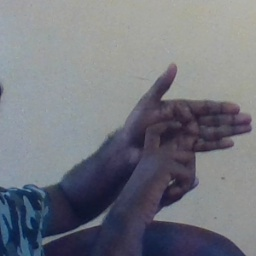R: (112, 56, 256, 213)
